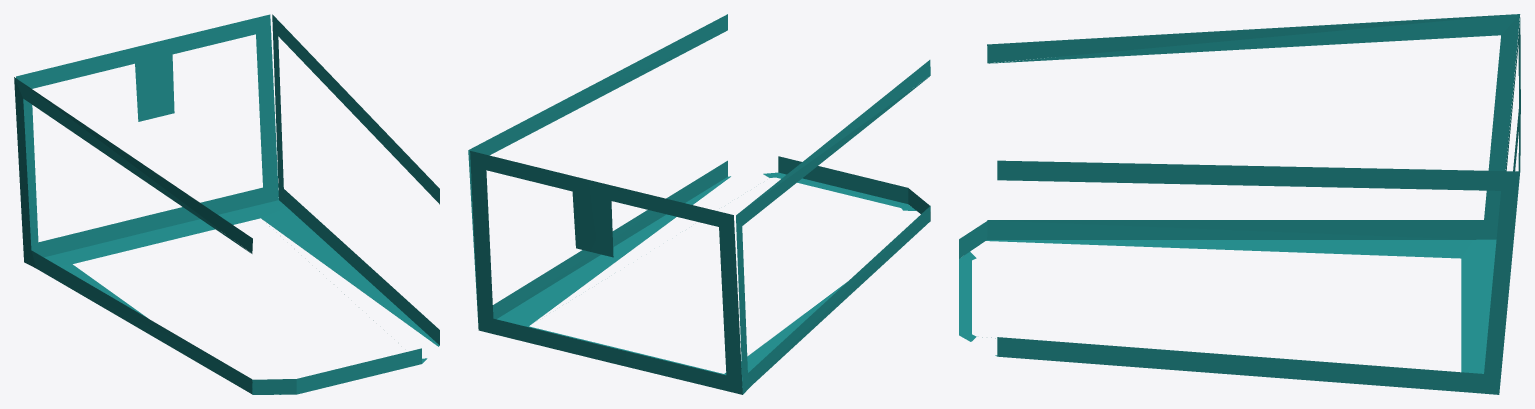
The model's file is original-2.obj.
3 views of the same model, side by side, from view 1: azimuth 30°, elevation 25°; view 2: azimuth 150°, elevation 25°; view 3: azimuth 270°, elevation 25° (orthographic). The views are drawn at different scales.
Parts seen in each view (by area): view 1: #ID1099; view 2: #ID1099; view 3: #ID1099.
Boxes of the visible parts, x1,y1,x2,y2 form: #ID1099: [14, 14, 439, 394]; #ID1099: [468, 14, 930, 394]; #ID1099: [959, 14, 1520, 394].
Bounding box in the file's own units: 0.796 × 0.5294 × 1.2.
